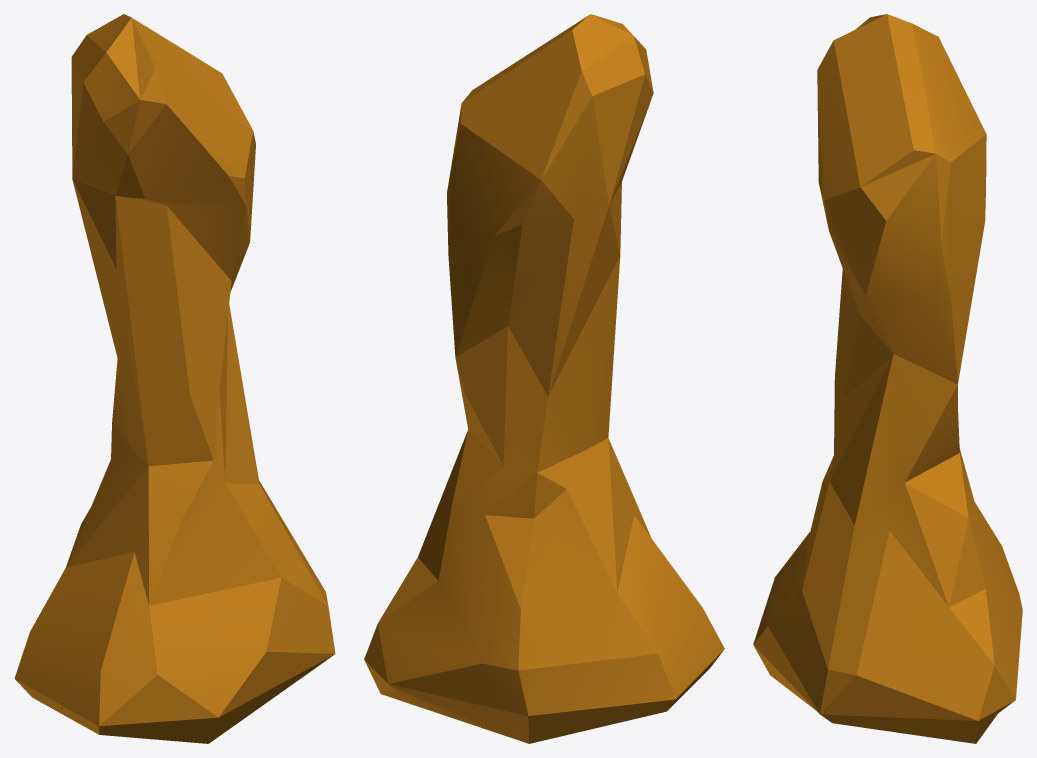
File: M_RockPillar_01.fbx
3 renders of one model, left to right at view 1: azimuth 30°, elevation 25°; view 2: azimuth 150°, elevation 25°; view 3: azimuth 270°, elevation 25°, orthographic. The views are drawn at different scales.
Visible parts, largest first — view 1: rockpillar_01; view 2: rockpillar_01; view 3: rockpillar_01.
Boxes of the visible parts, <box> form: rockpillar_01: <box>14,14,335,743</box>; rockpillar_01: <box>364,14,724,743</box>; rockpillar_01: <box>753,14,1022,743</box>.
Bounding box in the file's own units: 21.3 × 49.87 × 18.63.
